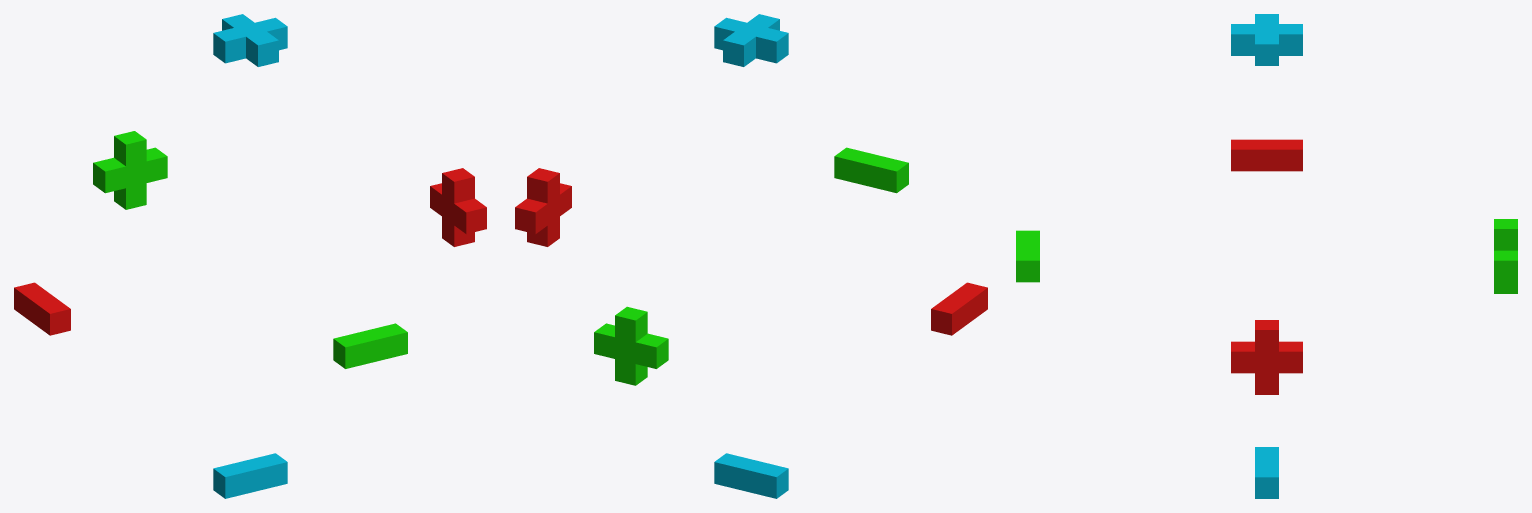
File: Orientation.glb
3 views of the same model, side by side, from view 1: azimuth 30°, elevation 25°; view 2: azimuth 150°, elevation 25°; view 3: azimuth 270°, elevation 25° (orthographic).
Parts seen in each view (by area): view 1: YPlus, XPlus, ZPlus, YMinus, ZMinus, XMinus; view 2: YPlus, XPlus, ZPlus, YMinus, ZMinus, XMinus; view 3: XPlus, ZPlus, XMinus, YPlus, YMinus, ZMinus.
Part boxes in pixels (x1,y1,x2,y2): YPlus: (93, 131, 167, 209); XPlus: (430, 168, 486, 246); ZPlus: (213, 14, 287, 66); YMinus: (333, 323, 407, 368); ZMinus: (213, 453, 287, 498); XMinus: (14, 282, 70, 335); YPlus: (594, 306, 668, 385); XPlus: (515, 168, 571, 246); ZPlus: (714, 14, 788, 66); YMinus: (834, 147, 908, 193); ZMinus: (714, 453, 788, 498); XMinus: (931, 282, 987, 335); XPlus: (1231, 320, 1302, 394); ZPlus: (1231, 14, 1302, 65); XMinus: (1231, 139, 1302, 171); YPlus: (1494, 219, 1517, 293); YMinus: (1016, 230, 1039, 282); ZMinus: (1255, 447, 1278, 498).
Size of the model in its own units: 42 by 42 by 42.
